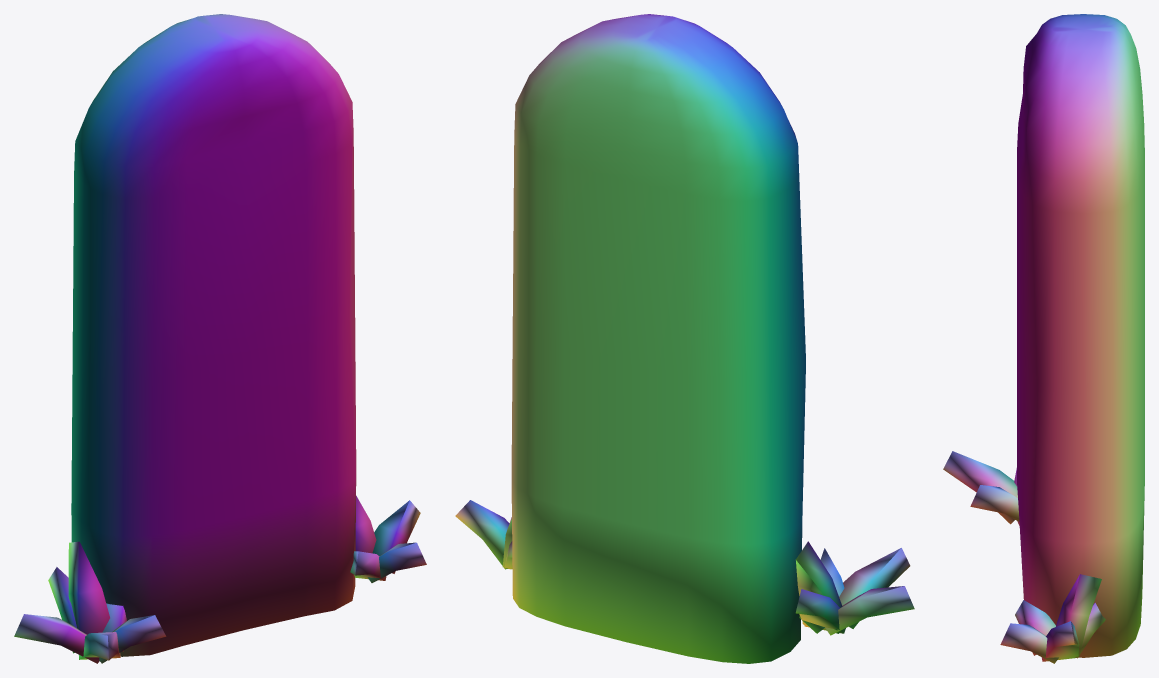
The model's file is SM_Prop_Lore_AncientTablet.fbx.
3 renders of one model, left to right at view 1: azimuth 30°, elevation 25°; view 2: azimuth 150°, elevation 25°; view 3: azimuth 270°, elevation 25°, orthographic. The views are drawn at different scales.
Visible parts, largest first — view 1: SM_Prop_Lore_AncientTablet; view 2: SM_Prop_Lore_AncientTablet; view 3: SM_Prop_Lore_AncientTablet.
Boxes of the visible parts, bbox=[...] form: SM_Prop_Lore_AncientTablet: bbox=[14, 14, 426, 663]; SM_Prop_Lore_AncientTablet: bbox=[455, 14, 914, 663]; SM_Prop_Lore_AncientTablet: bbox=[943, 14, 1144, 663].
Size of the model in its own units: 0.7208 by 0.9382 by 0.301.
